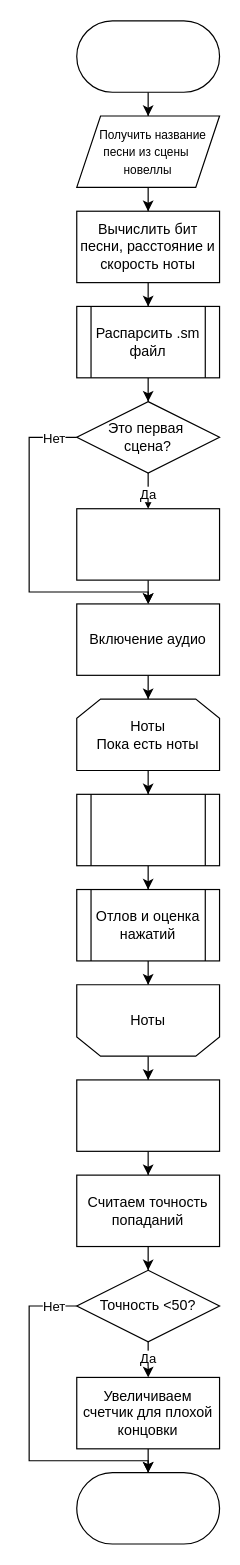
This 240x1565 diagram has some shape labels left out. Each missing label, with the centre of its shape:
"Выключение аудио" goes at pixel 148 1115.
"Генерация нот" goes at pixel 148 829.
"Показать диологовое окно подсказки управления" goes at pixel 148 544.
"Ритм игра Конец" goes at pixel 148 1507.
"Ритм игра Начало" goes at pixel 148 56.
